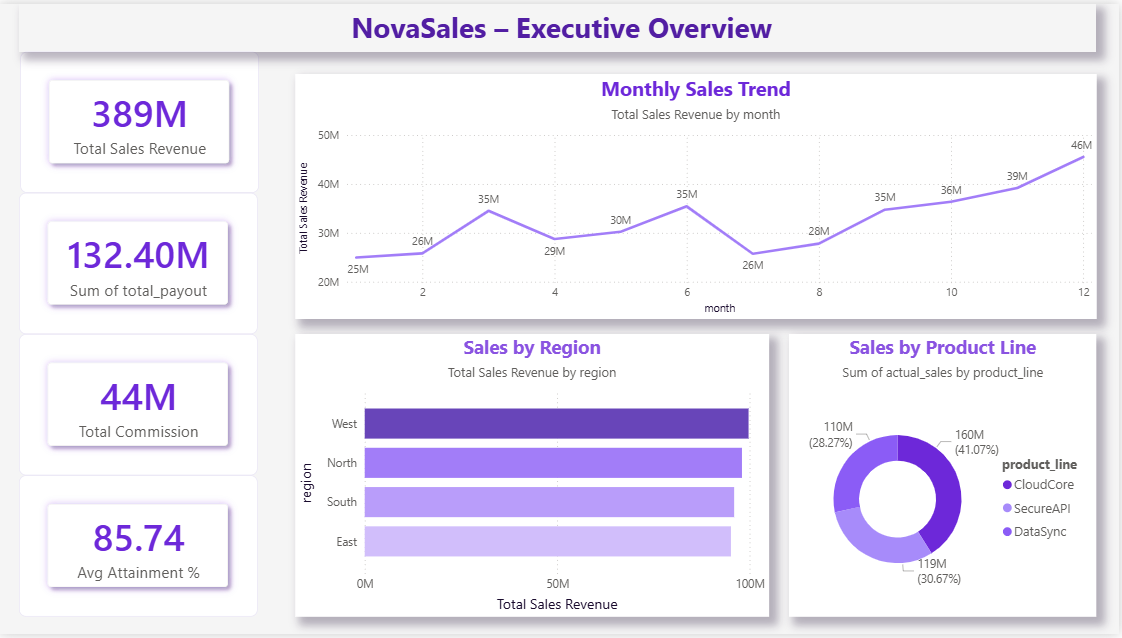

The page's visual inventory and layout, read from the dashboard file:
{"tool":"powerbi","page":{"name":"Executive Overview","canvas":[1280,720],"ordinal":0},"visuals":[{"type":"cardVisual","fields":{"Data":["commission_data.Total Sales Revenue"]},"box":[24.3,54.3,272.9,161.4],"z":0},{"type":"cardVisual","fields":{"Data":["Sum(commission_data.total_payout)"]},"box":[22.9,215.7,272.9,161.4],"z":1000},{"type":"cardVisual","fields":{"Data":["commission_data.Total Commission"]},"box":[22.9,377.1,272.9,161.4],"z":2000},{"type":"cardVisual","fields":{"Data":["commission_data.Avg Attainment %"]},"box":[22.9,538.6,272.9,161.4],"z":3000},{"type":"lineChart","title":"Monthly Sales Trend","fields":{"Category":["commission_data.month"],"Y":["commission_data.Total Sales Revenue"]},"box":[338.6,80,915.7,280],"z":5000},{"type":"textbox","box":[22.9,0,1231.4,54.3],"z":6000},{"type":"clusteredBarChart","title":"Sales by Region","fields":{"Category":["commission_data.region"],"Y":["commission_data.Total Sales Revenue"]},"box":[338.6,377.1,541.4,322.9],"z":6001},{"type":"donutChart","title":"Sales by Product Line","fields":{"Category":["commission_data.product_line"],"Y":["Sum(commission_data.actual_sales)"]},"box":[902.9,377.1,351.4,322.9],"z":6002}]}

Visuals, with their boxes in screenshot pixels (x1, y1, x2, y2), scaled from the page's 1280x720 canvas onto the 1122x638 screenshot:
cardVisual - commission_data.Total Sales Revenue: select_region(21, 48, 261, 191)
cardVisual - Sum(commission_data.total_payout): select_region(20, 191, 259, 334)
cardVisual - commission_data.Total Commission: select_region(20, 334, 259, 477)
cardVisual - commission_data.Avg Attainment %: select_region(20, 477, 259, 620)
"Monthly Sales Trend" lineChart: select_region(297, 71, 1099, 319)
textbox: select_region(20, 0, 1099, 48)
"Sales by Region" clusteredBarChart: select_region(297, 334, 771, 620)
"Sales by Product Line" donutChart: select_region(791, 334, 1099, 620)
